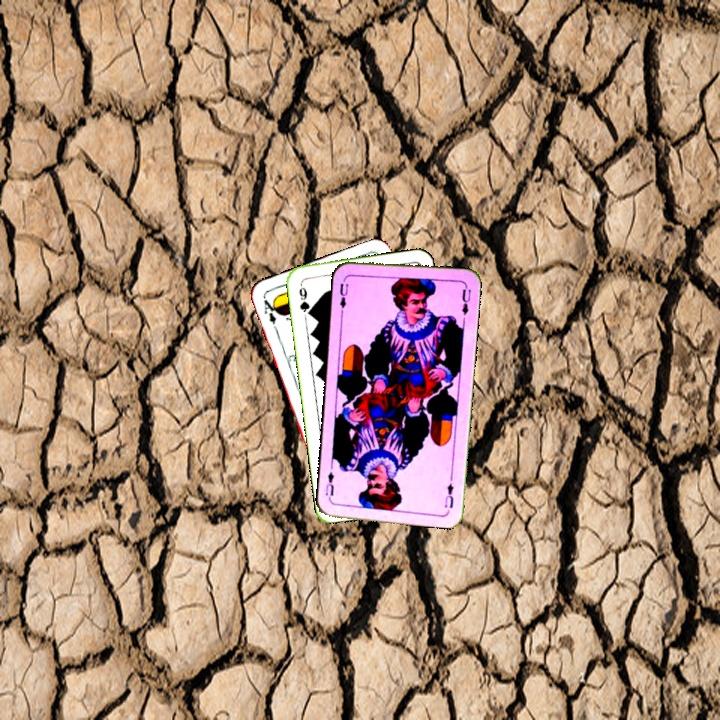EA: (259, 292, 281, 327)
EU: (441, 471, 456, 511), (336, 279, 351, 311)
G9: (295, 279, 313, 318)
